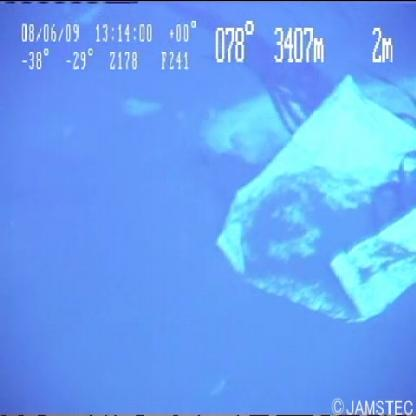Rác: (183, 38, 416, 327)
